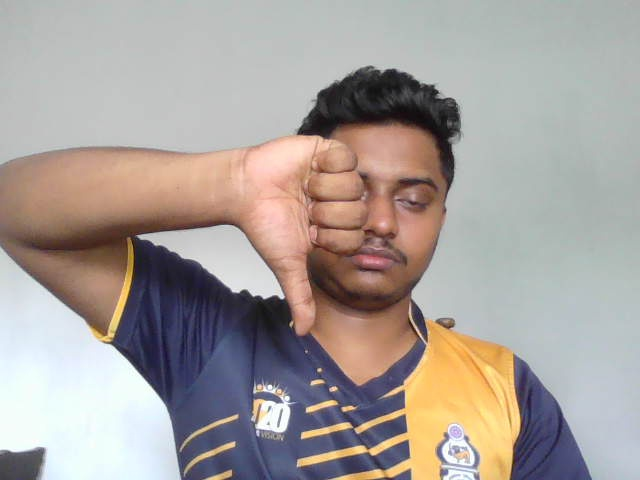Disagree: (239, 133, 369, 337)
